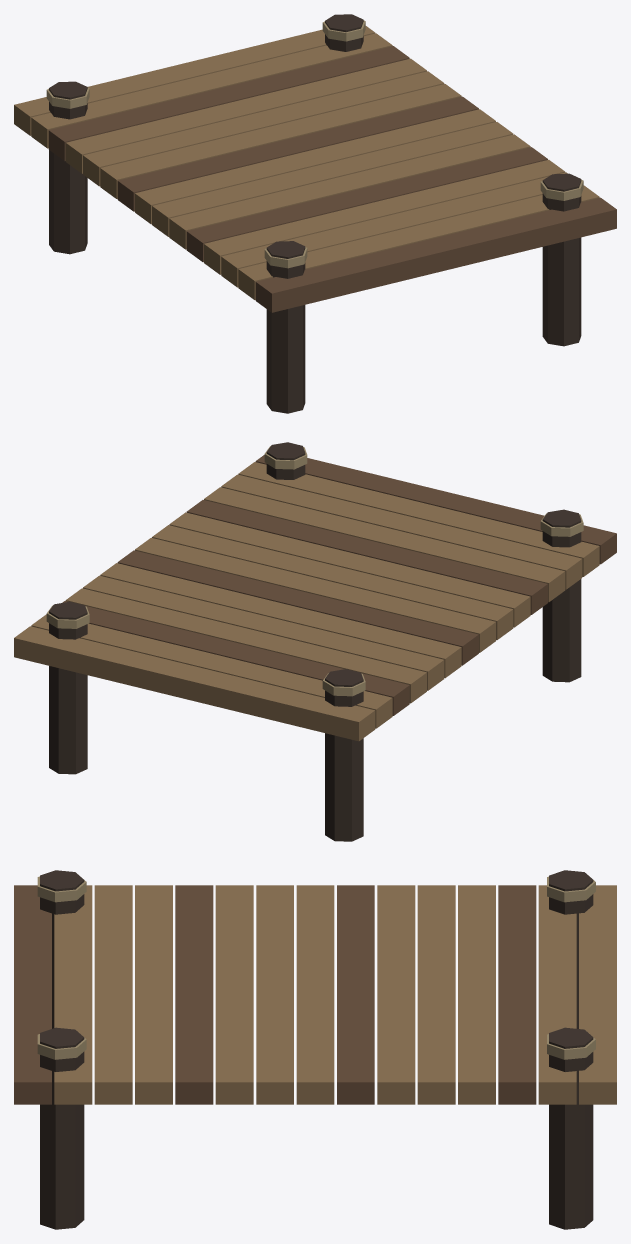
The model's file is dock.glb.
3 renders of one model, top to bottom at view 1: azimuth 30°, elevation 25°; view 2: azimuth 150°, elevation 25°; view 3: azimuth 270°, elevation 25°, orthographic. The views are drawn at different scales.
Parts seen in each view (by area): view 1: dock plank, dock plank.004, dock plank.005, dock plank.012, dock plank.008, dock plank.009, dock plank.010, dock plank.006, dock plank.011, dock plank.003, dock plank.007, dock plank.013 (+7 smaller); view 2: dock plank.014, dock plank.006, dock plank.005, dock plank.008, dock plank.009, dock plank.002, dock plank.003, dock plank.004, dock plank.010, dock plank.007, dock plank.011, dock plank.001 (+7 smaller); view 3: dock plank.002, dock plank.004, dock plank.005, dock plank.007, dock plank.009, dock plank.010, dock plank.012, dock plank.003, dock plank.006, dock plank.008, dock plank.011, dock plank (+11 smaller).
Part boxes in pixels (bbox=[...]): dock plank: bbox=[255, 197, 616, 312]; dock plank.004: bbox=[186, 147, 547, 262]; dock plank.005: bbox=[169, 134, 530, 249]; dock plank.012: bbox=[48, 46, 409, 160]; dock plank.008: bbox=[117, 96, 478, 211]; dock plank.009: bbox=[100, 84, 461, 198]; dock plank.010: bbox=[83, 71, 444, 186]; dock plank.006: bbox=[152, 122, 513, 236]; dock plank.011: bbox=[65, 58, 426, 173]; dock plank.003: bbox=[204, 159, 565, 274]; dock plank.007: bbox=[135, 109, 495, 224]; dock plank.013: bbox=[31, 33, 392, 148]; dock plank.014: bbox=[14, 626, 375, 741]; dock plank.006: bbox=[152, 525, 513, 640]; dock plank.005: bbox=[169, 512, 530, 627]; dock plank.008: bbox=[117, 550, 478, 665]; dock plank.009: bbox=[100, 563, 461, 678]; dock plank.002: bbox=[221, 474, 582, 589]; dock plank.003: bbox=[204, 487, 565, 602]; dock plank.004: bbox=[186, 500, 547, 614]; dock plank.010: bbox=[83, 575, 444, 690]; dock plank.007: bbox=[135, 537, 495, 652]; dock plank.011: bbox=[65, 588, 426, 703]; dock plank.001: bbox=[238, 462, 599, 576]; dock plank.002: bbox=[94, 885, 132, 1104]; dock plank.004: bbox=[175, 885, 213, 1104]; dock plank.005: bbox=[215, 885, 253, 1104]; dock plank.007: bbox=[296, 885, 334, 1104]; dock plank.009: bbox=[377, 885, 415, 1104]; dock plank.010: bbox=[417, 885, 455, 1104]; dock plank.012: bbox=[498, 885, 536, 1104]; dock plank.003: bbox=[135, 885, 172, 1104]; dock plank.006: bbox=[256, 885, 293, 1104]; dock plank.008: bbox=[337, 885, 374, 1104]; dock plank.011: bbox=[458, 885, 495, 1104]; dock plank: bbox=[14, 885, 51, 1104].
Bounding box in the file's own units: 1.5 × 0.65 × 1.94.
